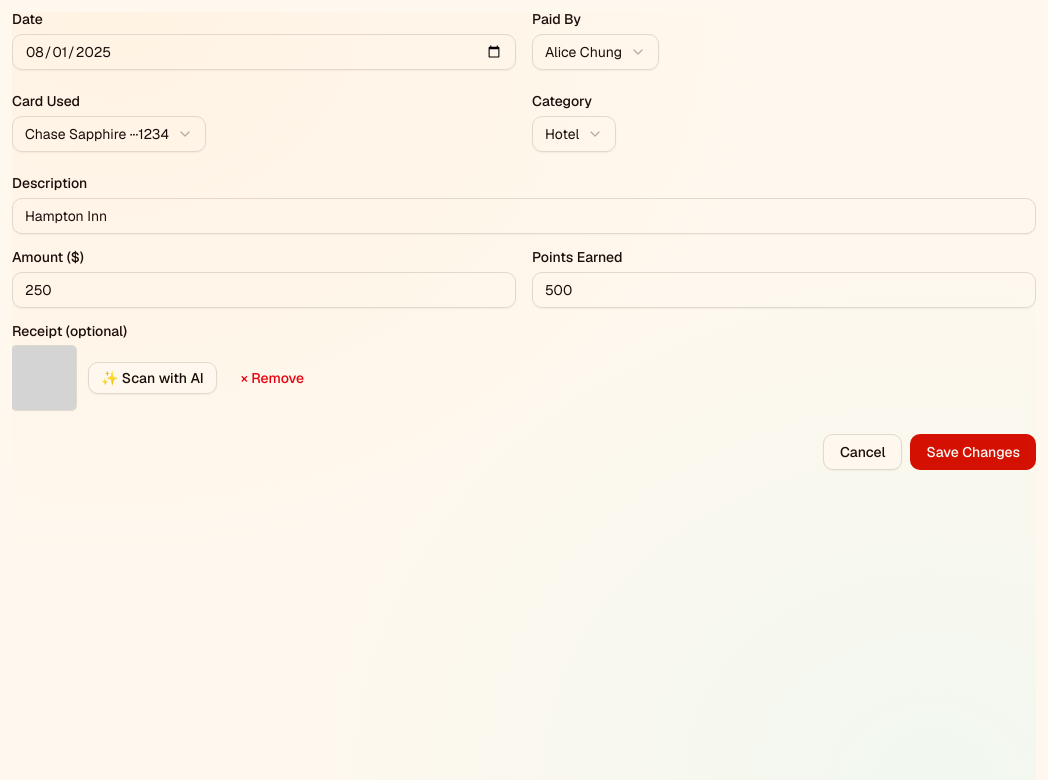
Test case: Receipt UI — with existing receiptPath › clicking '× Remove' switches back to Attach Receipt button
What coordinates should you click on to do the following:
click the button "× Remove"
I would click on:
 (272, 378)
Its box is [229,362,316,394].
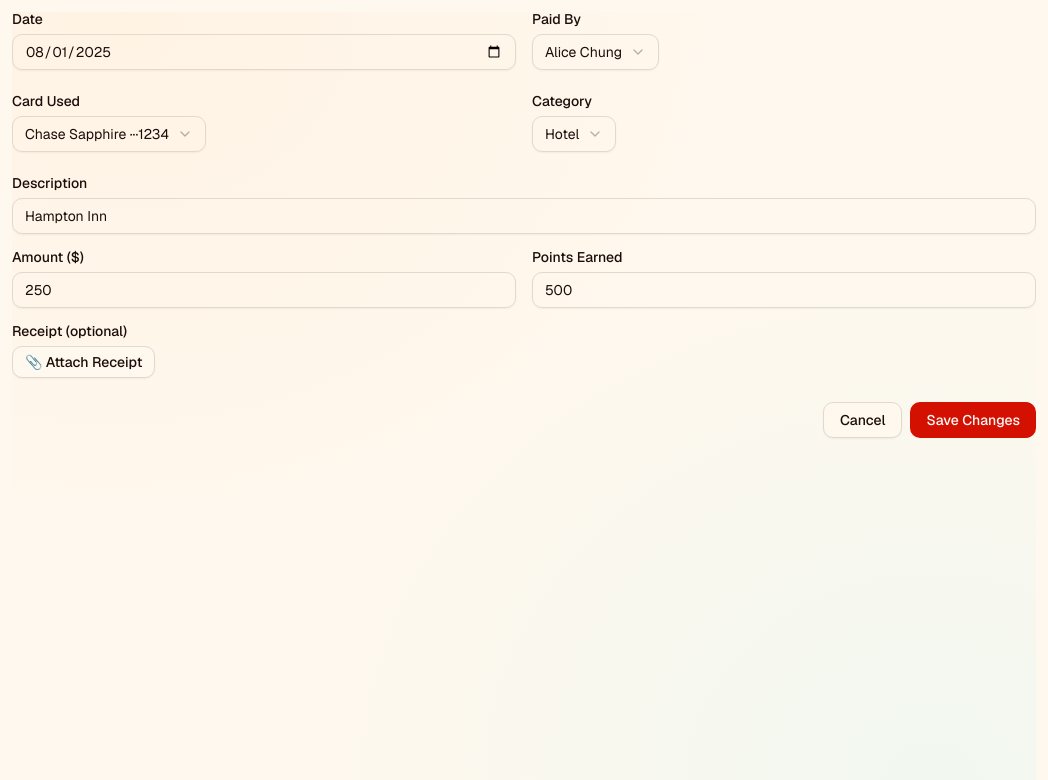
Expected: the button "📎 Attach Receipt" is shown, [12,346,155,378]
